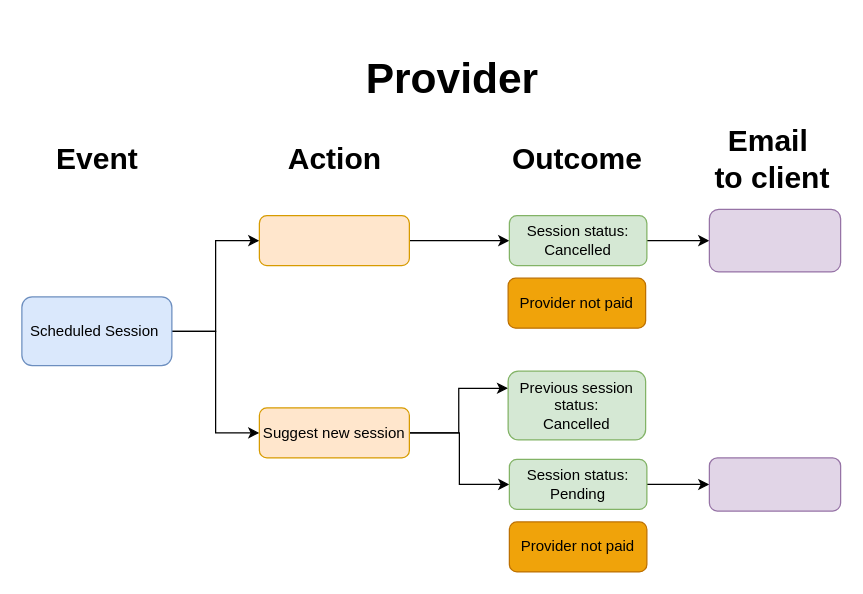
Some shapes in this 863 by 594 pixel diagram are drawn without their labels. Here are the shapes that lost their labels. From the top down, the centre of each, then its label:
At [333,240]: "Cancel".
At [774,240]: "Cancelled consultation".
At [774,484]: "Suggested session".
